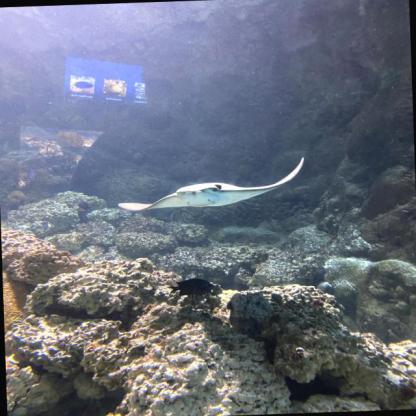fish: (165, 276, 216, 298)
stingray: (116, 157, 306, 212)
